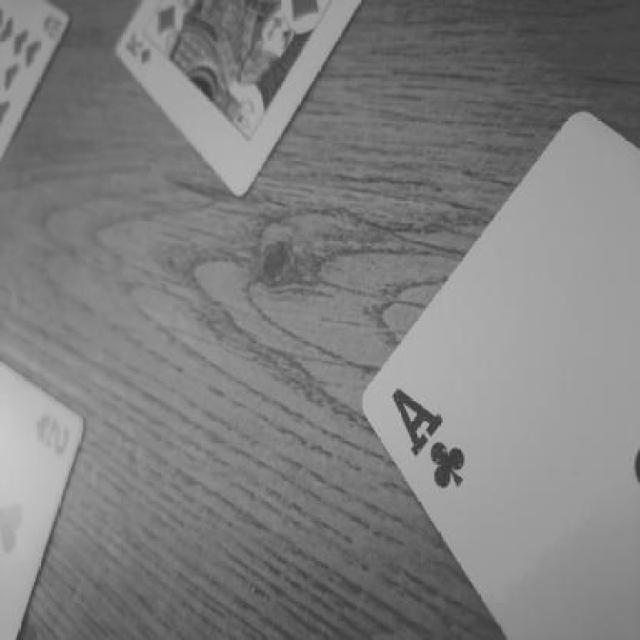AC: (376, 344, 484, 521)
